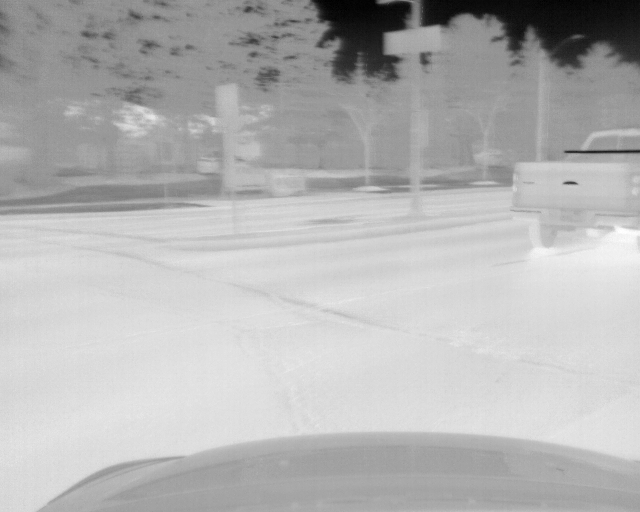car: (511, 127, 640, 249)
